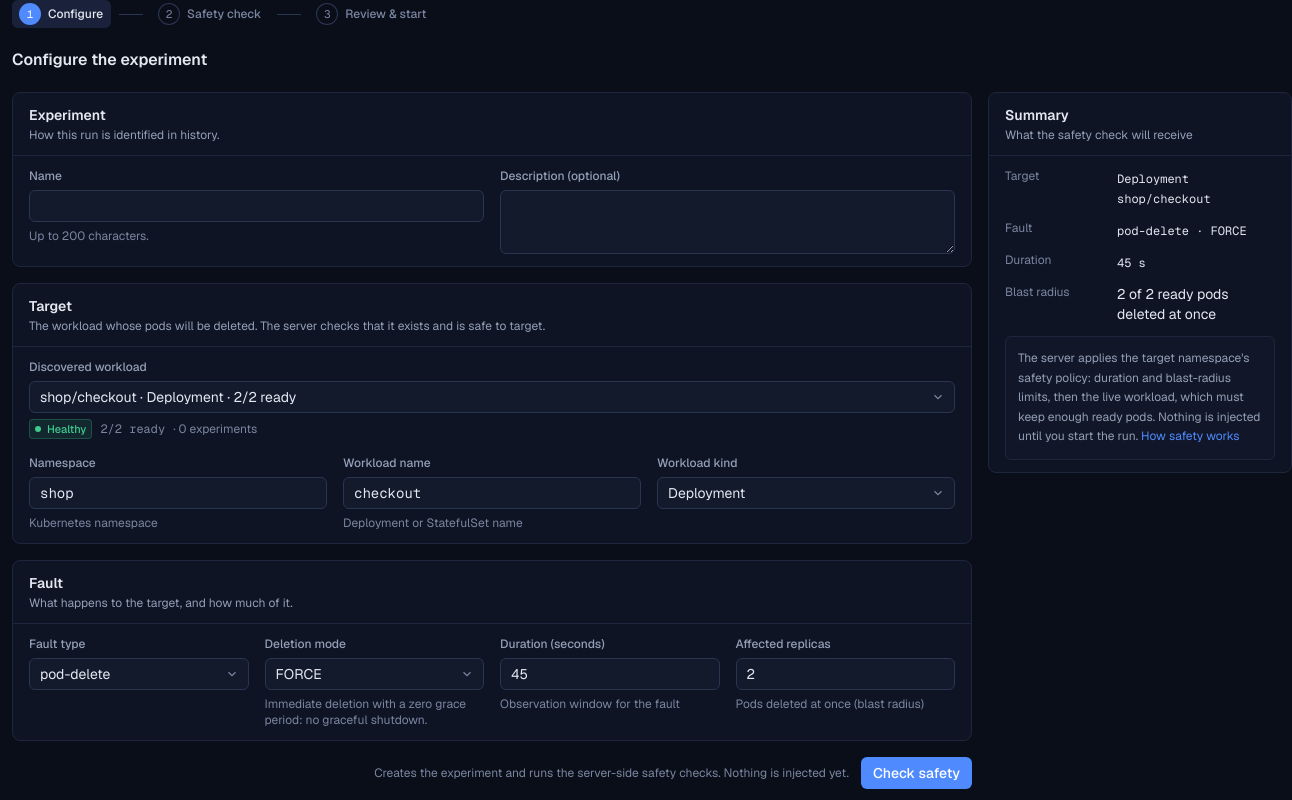
Test: Experiment builder with saved defaults › pre-fills the fault from preferences and sends exactly what is shown to the server
The width and height of the screenshot is (1292, 800).
Expected: the dropdown labelled "Deletion mode" shows "FORCE", [264, 658, 484, 690]
Expected: the number field labelled "Duration (seconds)" holds "45", [500, 658, 720, 690]
Type "defaults run" into the field labelled "Name". click: point(256, 206)
box: [29, 190, 484, 222]
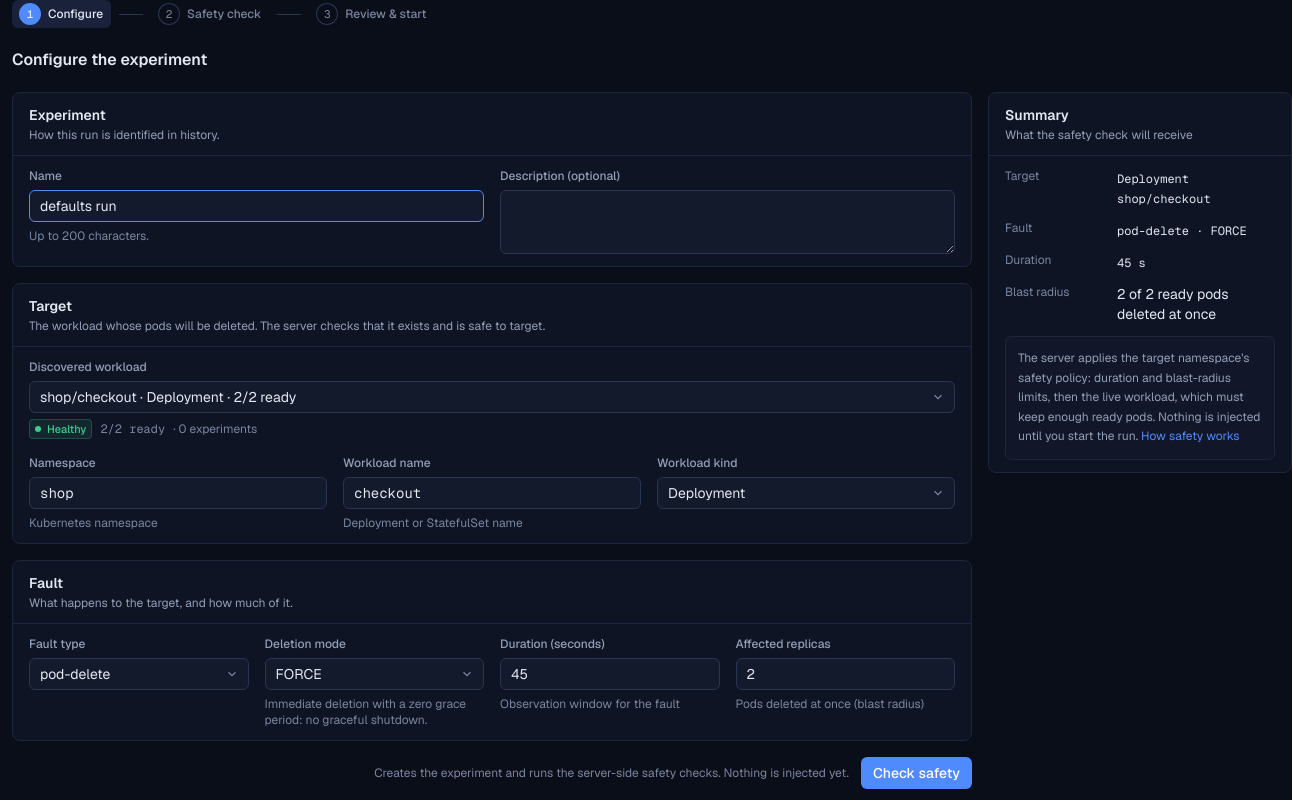
Click the button "Check safety". click: point(916, 773)
box: [861, 757, 972, 789]
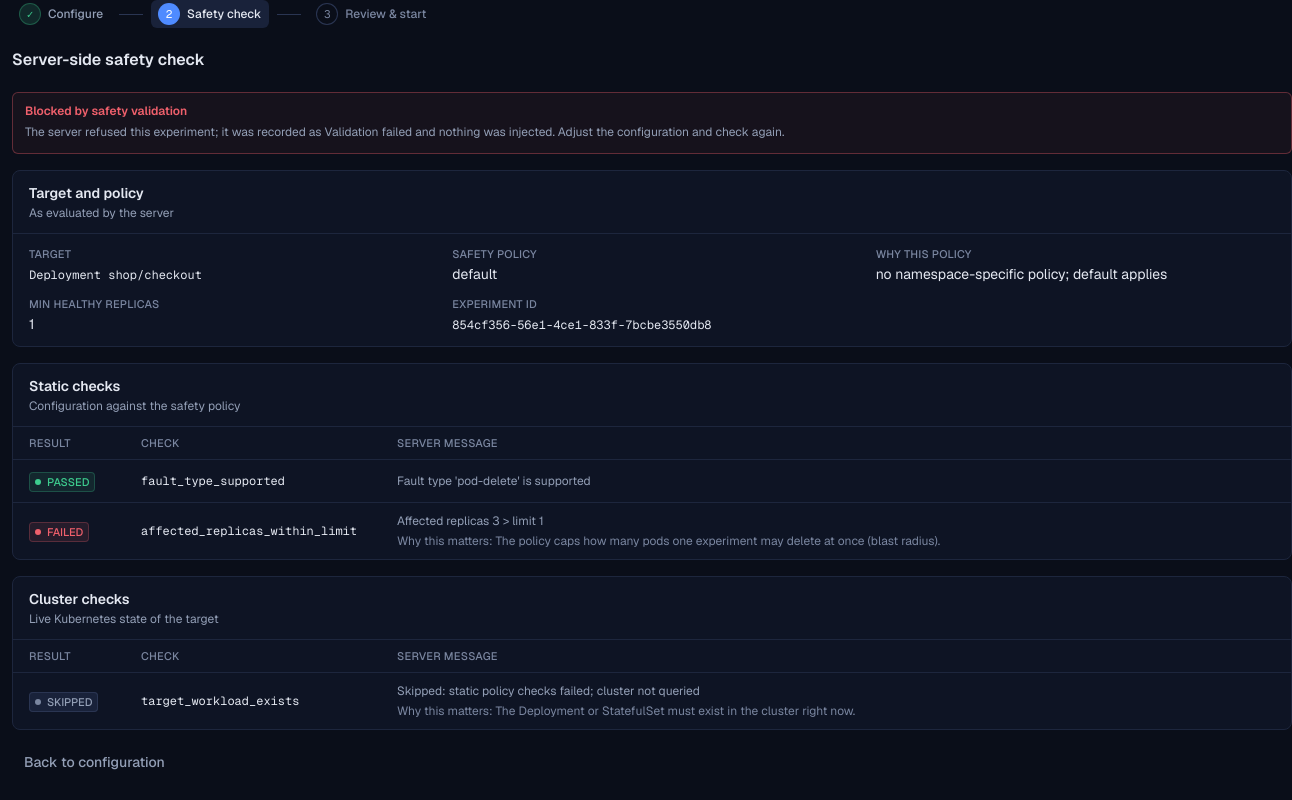
Expected: the text "Blocked by safety validation" is shown, [25, 103, 187, 119]
